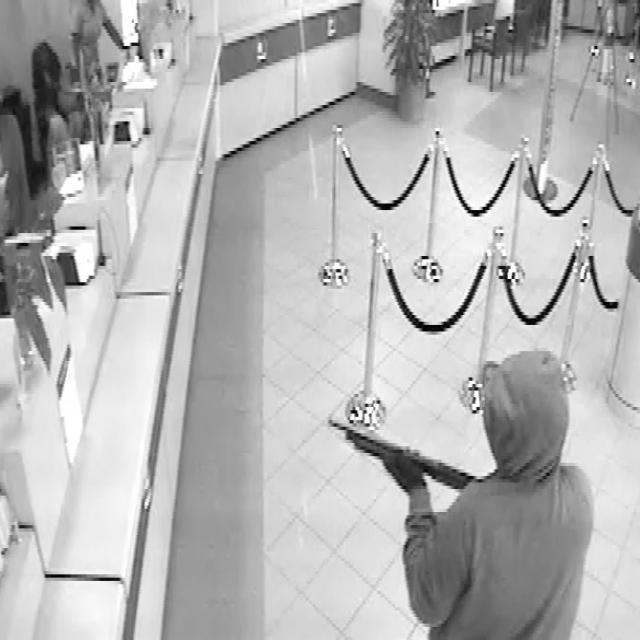gun: (325, 418, 492, 488)
